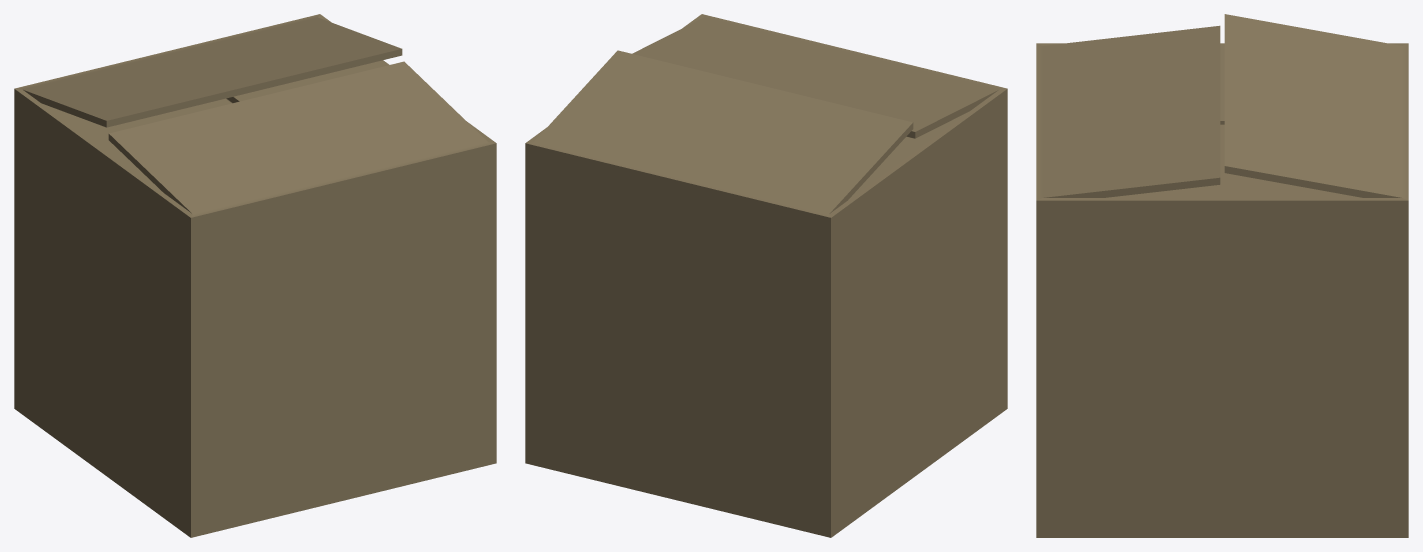
3 views of the same model, side by side, from view 1: azimuth 30°, elevation 25°; view 2: azimuth 150°, elevation 25°; view 3: azimuth 270°, elevation 25° (orthographic). The views are drawn at different scales.
Visible parts, largest first — view 1: pCube3; view 2: pCube3; view 3: pCube3.
Part boxes in pixels (x1,y1,x2,y2): pCube3: (14,14,496,537); pCube3: (525,14,1007,537); pCube3: (1036,14,1408,537).
Size of the model in its own units: 1 by 1.09 by 1.
